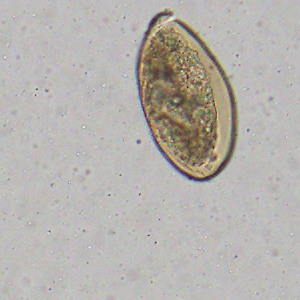Fasciola_hepatica_egg: (135, 7, 240, 184)
